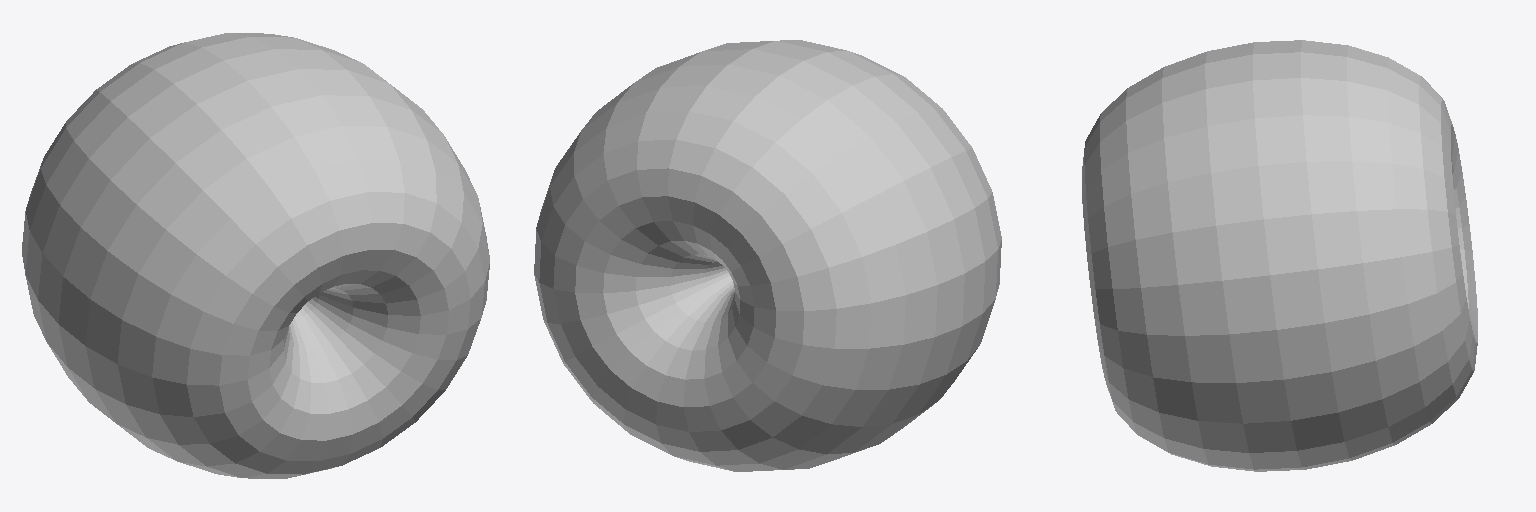
The model's file is Dick_hole 2.7.obj.
3 views of the same model, side by side, from view 1: azimuth 30°, elevation 25°; view 2: azimuth 150°, elevation 25°; view 3: azimuth 270°, elevation 25° (orthographic).
Visible parts, largest first — view 1: dick_in_sheath.000_horsecock.000; view 2: dick_in_sheath.000_horsecock.000; view 3: dick_in_sheath.000_horsecock.000.
Part boxes in pixels (x1,y1,x2,y2): dick_in_sheath.000_horsecock.000: (22,33,489,478); dick_in_sheath.000_horsecock.000: (534,40,1001,471); dick_in_sheath.000_horsecock.000: (1082,40,1477,471).
Size of the model in its own units: 4.81 by 4.53 by 4.22.